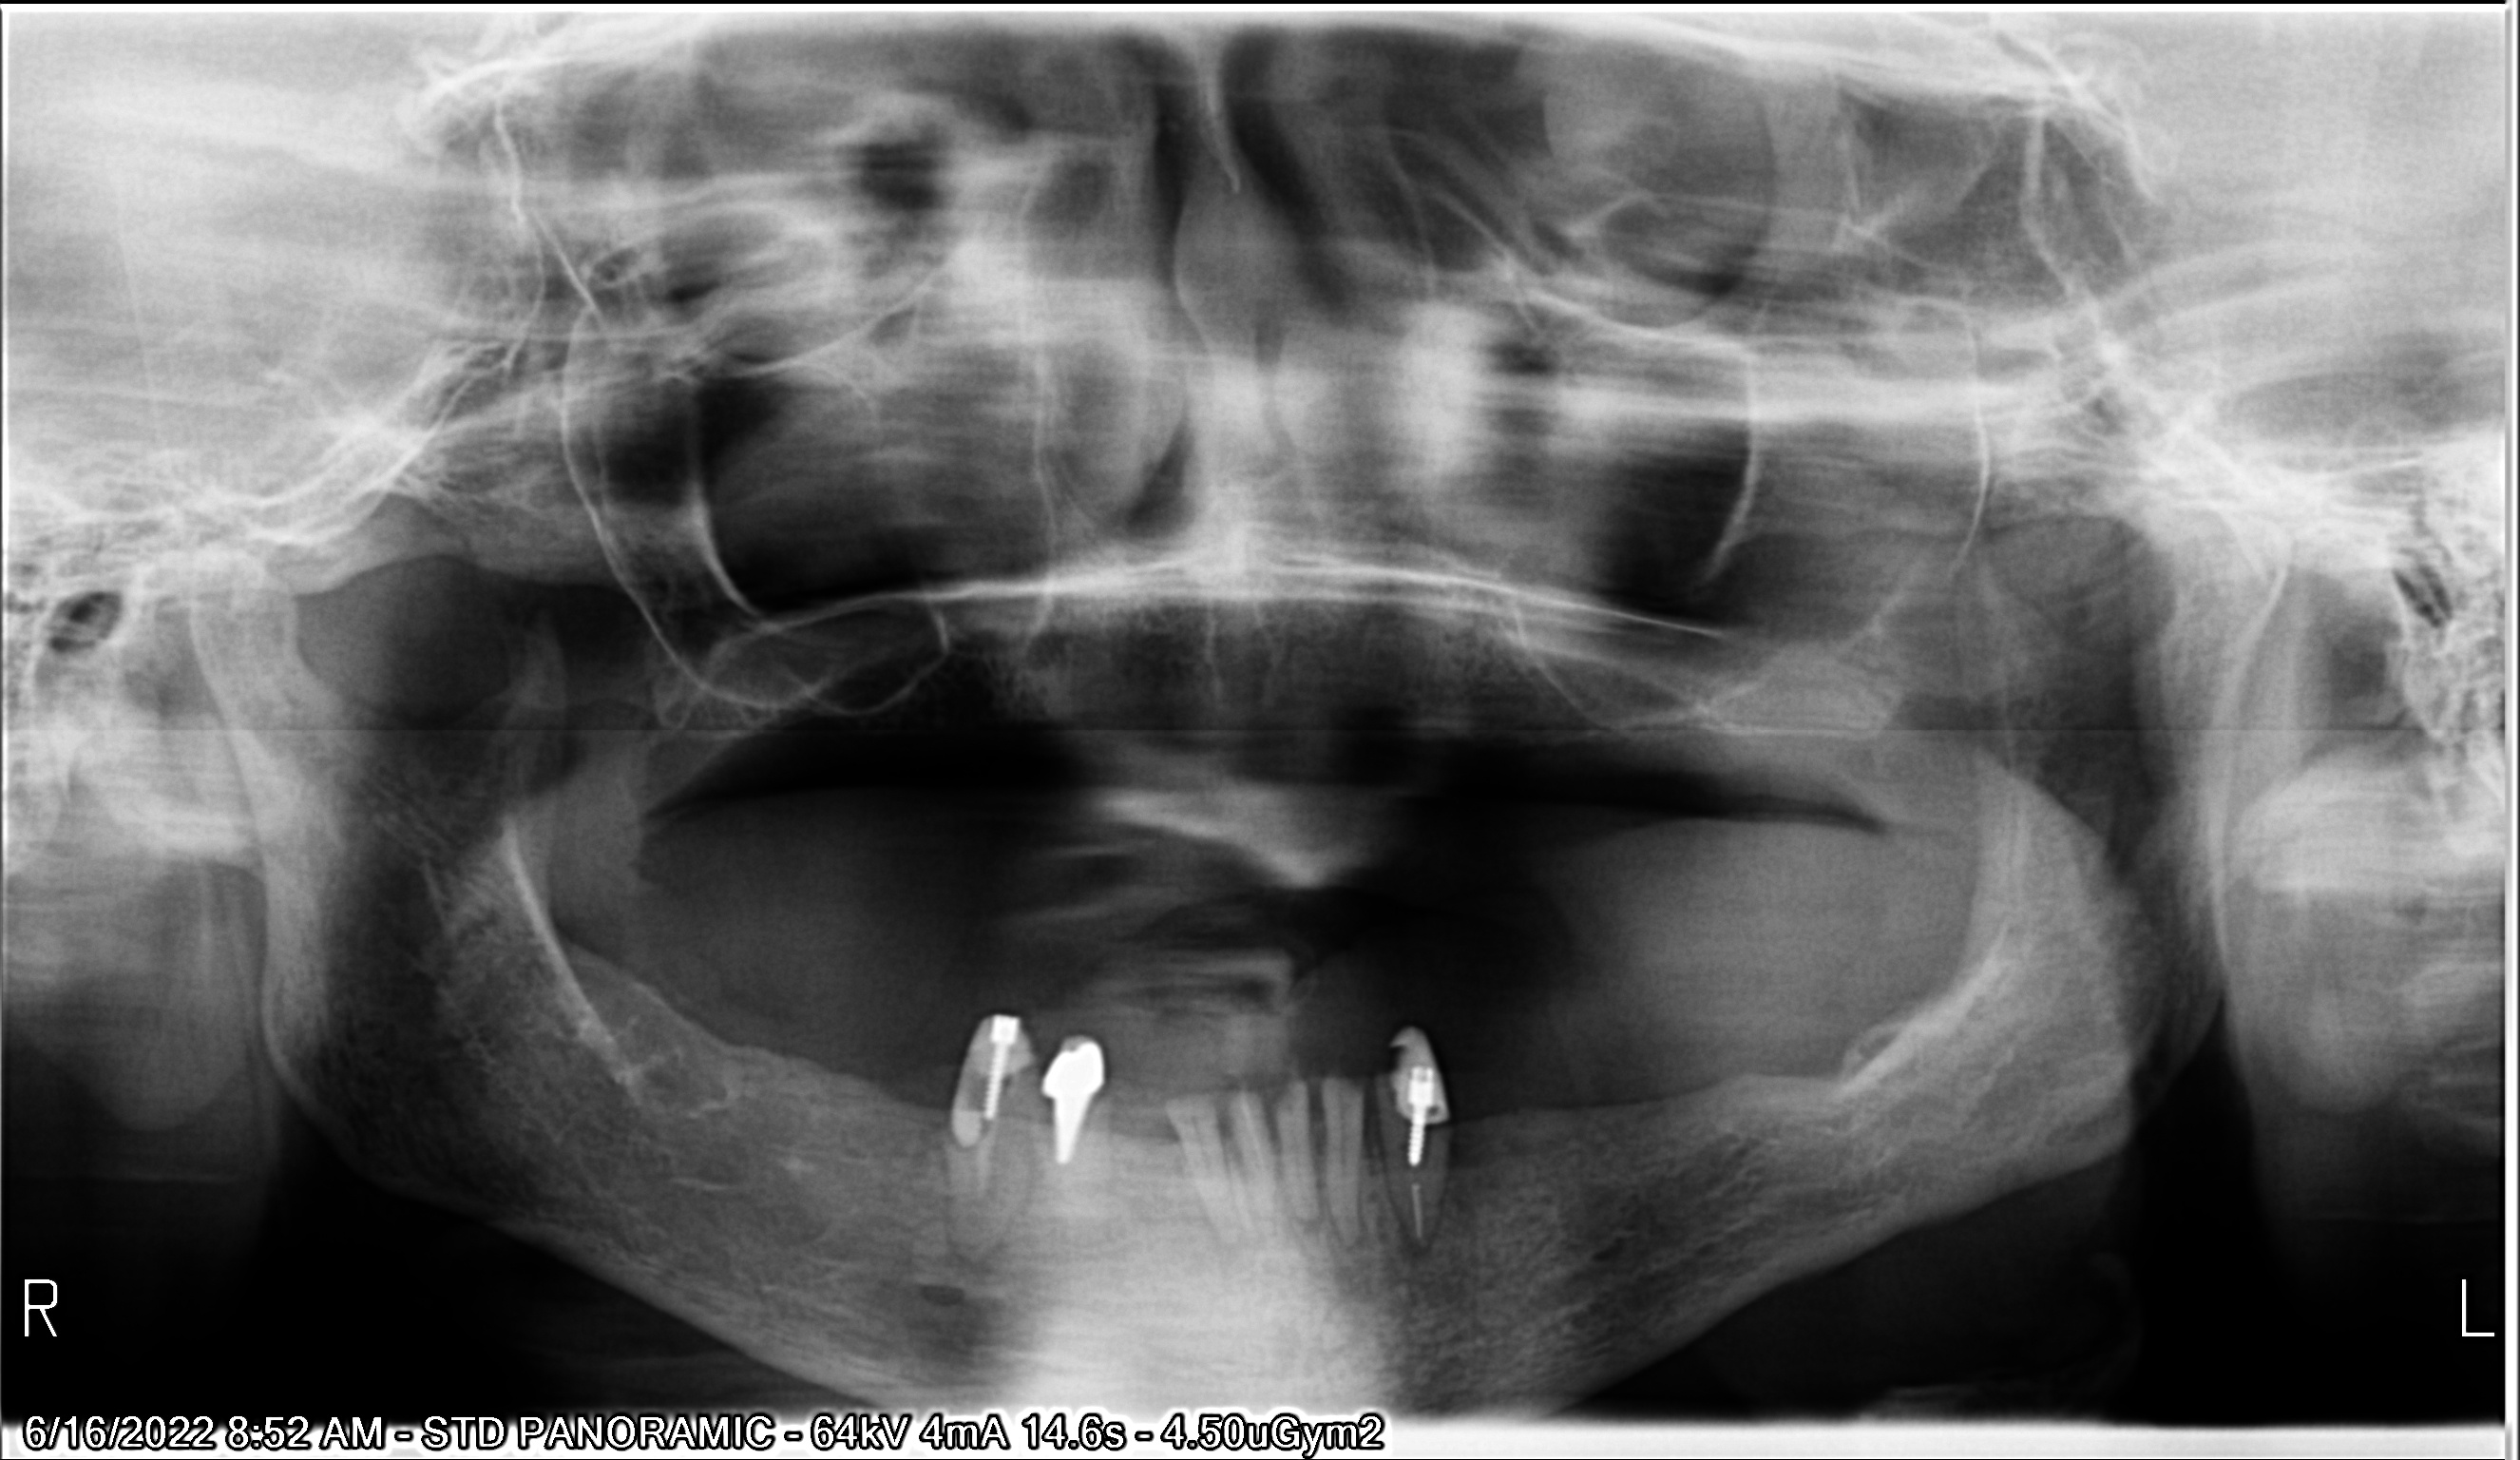API: (1325, 1201, 1384, 1297), (1289, 1192, 1327, 1267)
END: (962, 1119, 1009, 1220), (1395, 1156, 1436, 1264)
OBT: (936, 1001, 1063, 1145), (1374, 992, 1485, 1131)
PRR: (1030, 1008, 1136, 1171)
ROT: (1304, 1050, 1382, 1265), (1158, 1088, 1247, 1267), (1256, 1062, 1327, 1218), (1217, 1074, 1282, 1241)
